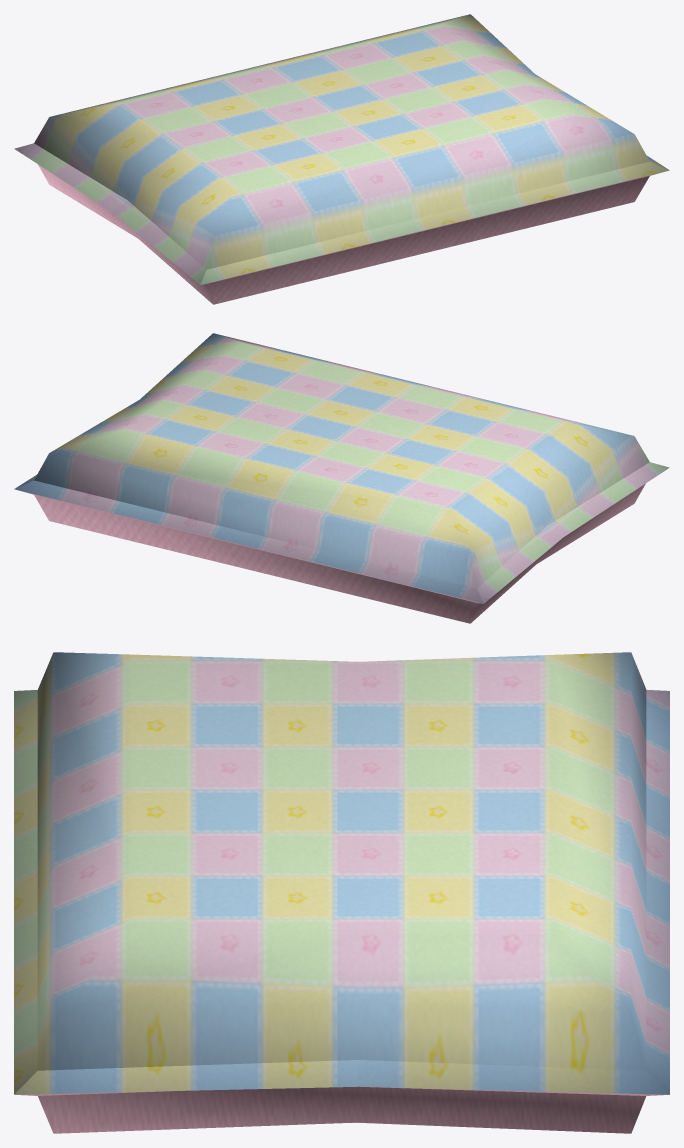
Rendered from Childrens_Pillow_G1.FBX.
3 renders of one model, top to bottom at view 1: azimuth 30°, elevation 25°; view 2: azimuth 150°, elevation 25°; view 3: azimuth 270°, elevation 25°, orthographic. The views are drawn at different scales.
Parts seen in each view (by area): view 1: Pillow; view 2: Pillow; view 3: Pillow.
Part boxes in pixels (bbox=[...]): Pillow: bbox=[14, 14, 669, 304]; Pillow: bbox=[14, 333, 669, 623]; Pillow: bbox=[14, 652, 669, 1133].
Bounding box in the file's own units: 194 × 41.64 × 133.
